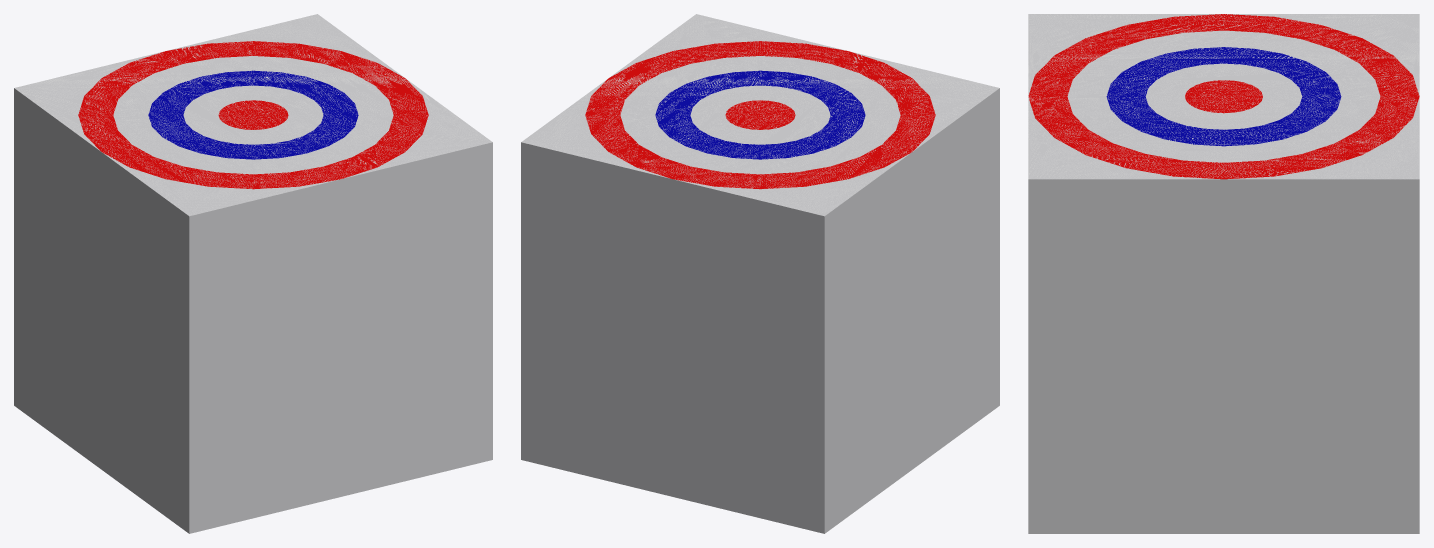
The model's file is landingPad.fbx.
3 renders of one model, left to right at view 1: azimuth 30°, elevation 25°; view 2: azimuth 150°, elevation 25°; view 3: azimuth 270°, elevation 25°, orthographic. The views are drawn at different scales.
Parts seen in each view (by area): view 1: SketchUp_009, SketchUp_004, SketchUp_005, SketchUp_006, SketchUp_007, SketchUp_003, SketchUp_001, SketchUp_002, SketchUp, SketchUp_008; view 2: SketchUp_009, SketchUp_004, SketchUp_005, SketchUp_006, SketchUp_007, SketchUp, SketchUp_002, SketchUp_003, SketchUp_001, SketchUp_008; view 3: SketchUp_009, SketchUp_004, SketchUp_005, SketchUp_006, SketchUp_007, SketchUp_003, SketchUp, SketchUp_002, SketchUp_001, SketchUp_008.
Boxes of the visible parts, x1,y1,x2,y2 form: SketchUp_009: (14, 88, 492, 533); SketchUp_004: (78, 41, 428, 189); SketchUp_005: (113, 56, 393, 174); SketchUp_006: (148, 70, 358, 159); SketchUp_007: (183, 85, 323, 144); SketchUp_003: (168, 14, 404, 77); SketchUp_001: (102, 152, 338, 216); SketchUp_002: (14, 52, 161, 151); SketchUp: (344, 79, 492, 178); SketchUp_008: (218, 100, 288, 129); SketchUp_009: (521, 88, 999, 533); SketchUp_004: (585, 41, 935, 189); SketchUp_005: (620, 56, 900, 174); SketchUp_006: (655, 70, 865, 159); SketchUp_007: (690, 85, 830, 144); SketchUp: (609, 14, 845, 77); SketchUp_002: (675, 152, 911, 216); SketchUp_003: (521, 79, 669, 178); SketchUp_001: (852, 52, 999, 151); SketchUp_008: (725, 100, 795, 129); SketchUp_009: (1028, 179, 1419, 533); SketchUp_004: (1028, 14, 1419, 179); SketchUp_005: (1067, 30, 1380, 162); SketchUp_006: (1106, 47, 1341, 146); SketchUp_007: (1145, 63, 1302, 129); SketchUp_003: (1228, 97, 1419, 179); SketchUp: (1028, 97, 1219, 179); SketchUp_002: (1227, 14, 1419, 95); SketchUp_001: (1028, 14, 1220, 95); SketchUp_008: (1185, 80, 1262, 113).
Bounding box in the file's own units: 591 × 591 × 591.
